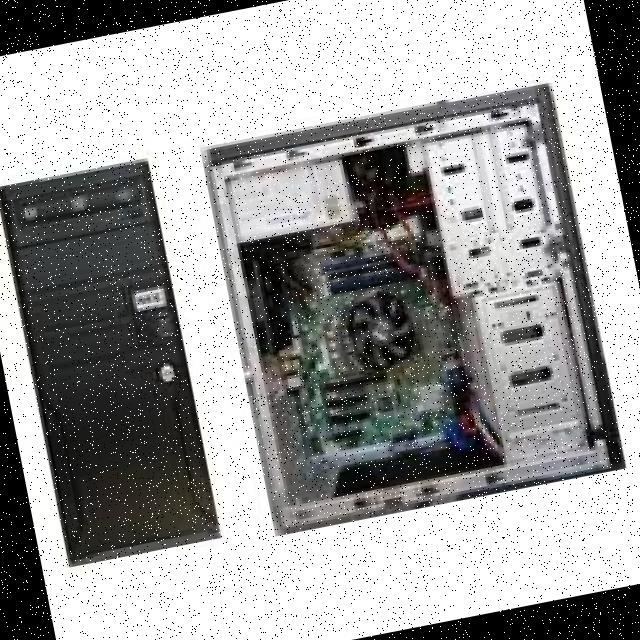Computer: (0, 134, 238, 590)
